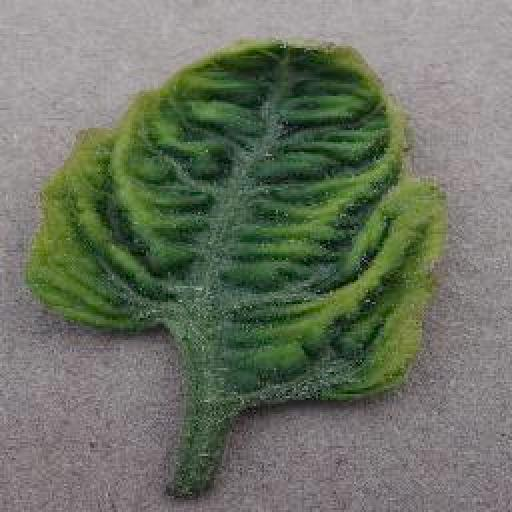disease_tomato: (20, 36, 446, 422)
